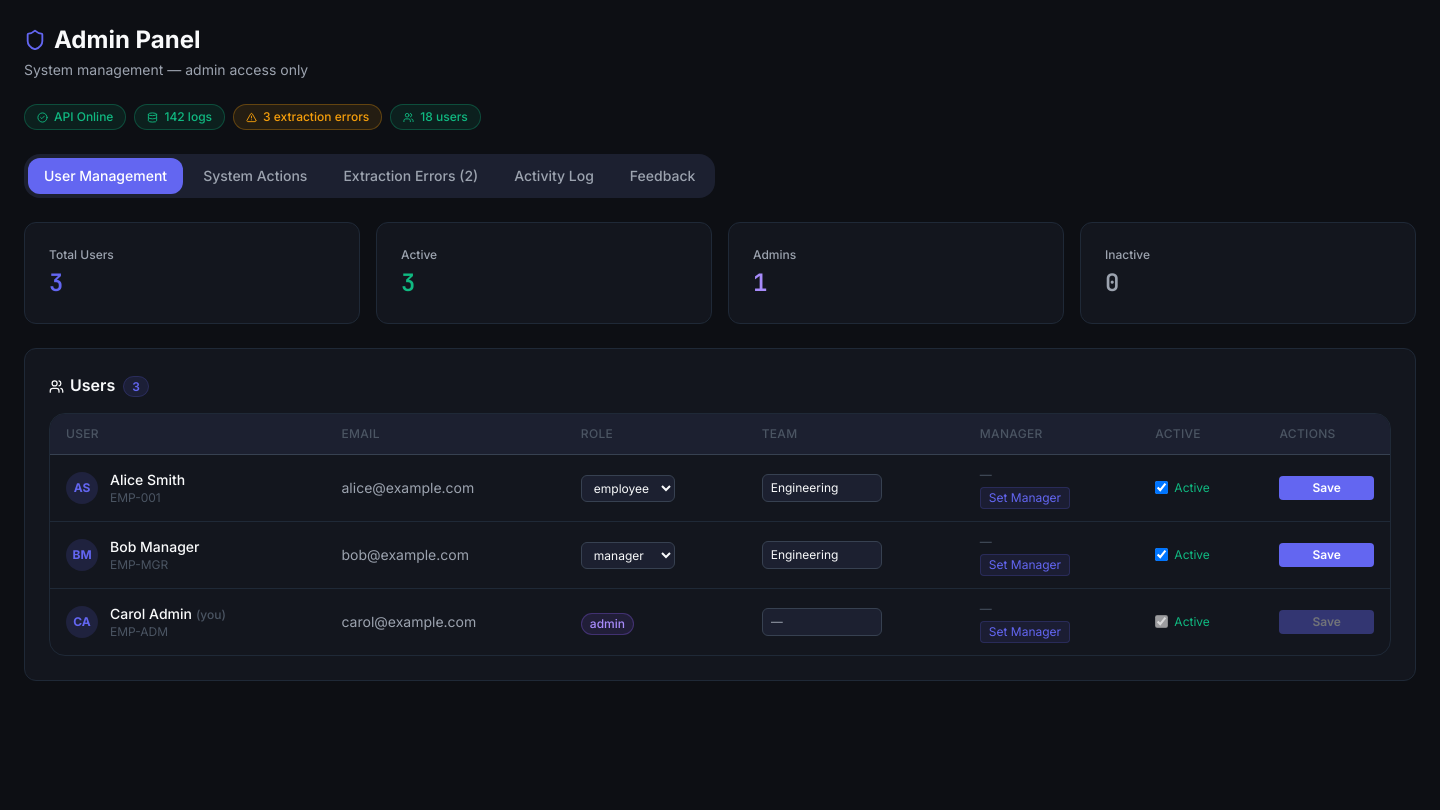
AdminPage — Extraction Errors tab › shows failed count (1) and needs_review count (1)
Click the button "Extraction Errors (2)".
click(411, 176)  # box [327,158,494,194]
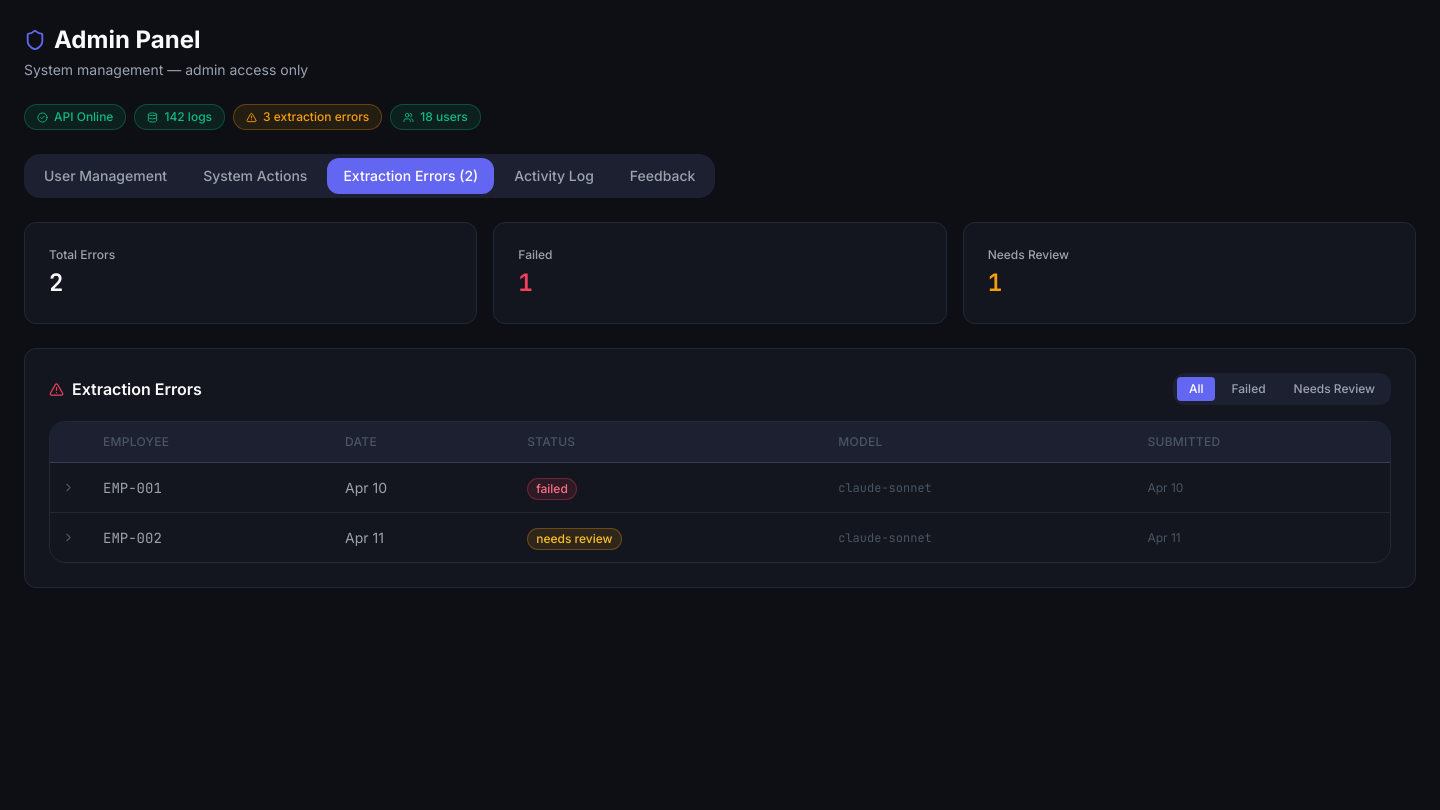
Expected: the 1st text "1" is shown, [518,267,533,298]
Now the text "Total Errors" is shown, box [49,247,115,262]
